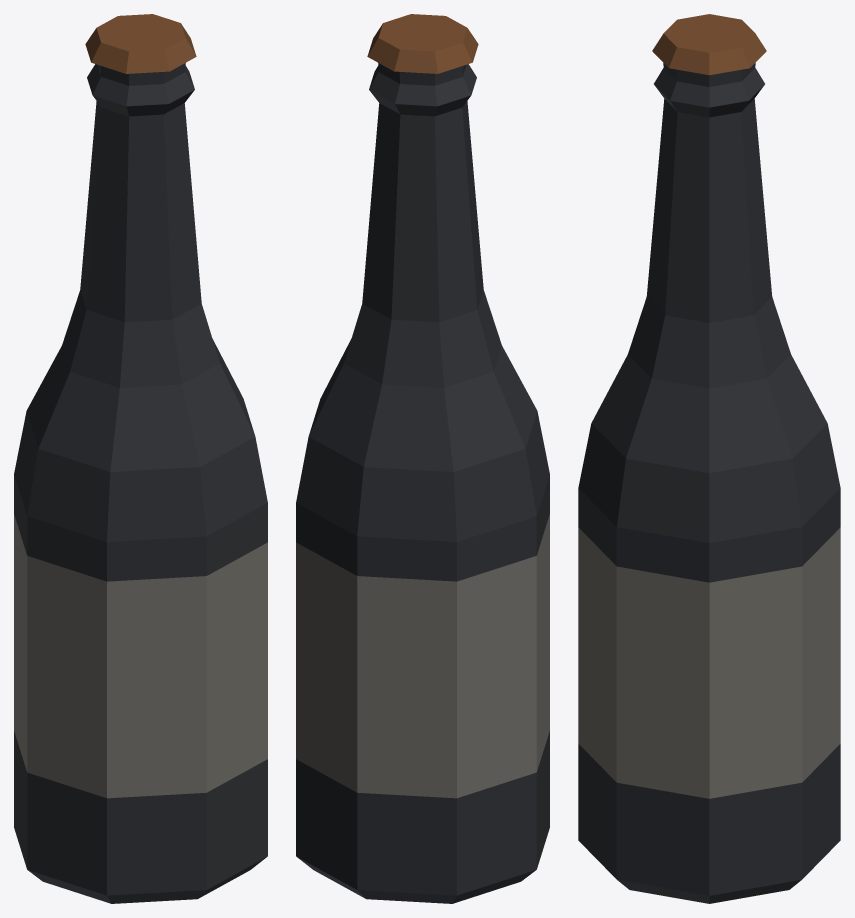
Rendered from cc0-bottle-lod0.glb.
The picture shows the model from 3 angles, left to right: view 1: azimuth 30°, elevation 25°; view 2: azimuth 150°, elevation 25°; view 3: azimuth 270°, elevation 25°; orthographic projection.
Visible parts, largest first — view 1: part_0; view 2: part_0; view 3: part_0.
Boxes of the visible parts, x1,y1,x2,y2 form: part_0: (14, 14, 267, 903); part_0: (296, 14, 549, 903); part_0: (578, 14, 840, 903).
Size of the model in its own units: 0.4517 by 1.56 by 0.4517.
